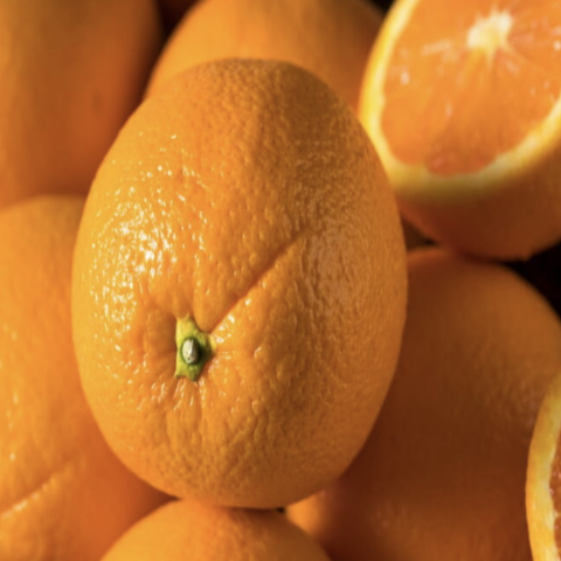orange: (30, 25, 423, 532)
